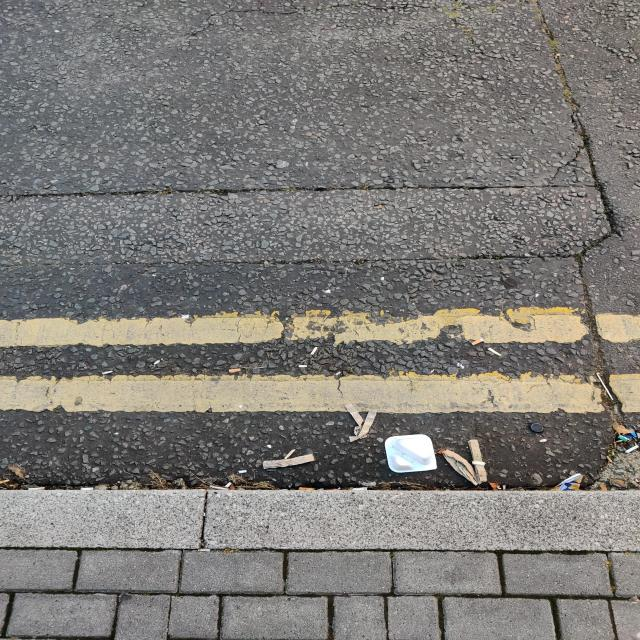litter: (442, 439, 488, 485), (384, 434, 436, 472), (345, 402, 378, 443), (263, 454, 314, 469), (549, 473, 583, 491), (487, 347, 502, 357), (624, 445, 639, 453), (531, 423, 543, 433), (472, 338, 484, 345), (28, 487, 47, 490), (472, 461, 485, 465), (154, 359, 161, 366), (229, 369, 241, 373), (102, 370, 113, 374), (80, 487, 93, 490), (237, 470, 246, 474), (297, 365, 307, 368), (299, 488, 313, 490)
